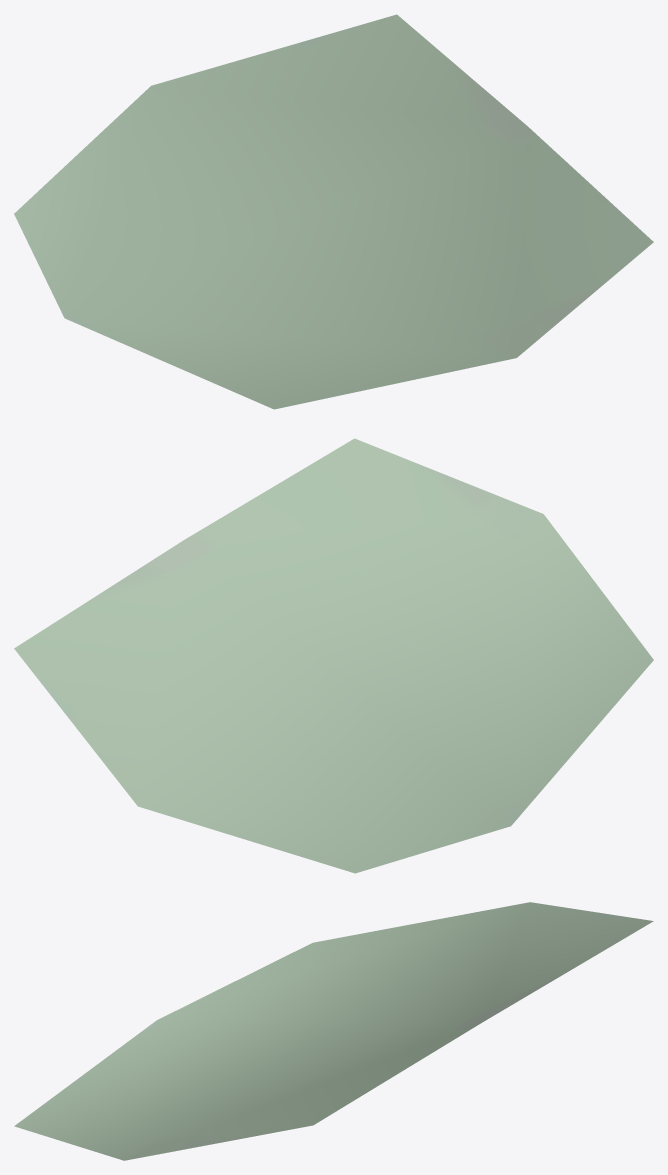
Rendered from TROLLHOLE02_HOLECAP87.fbx.
3 views of the same model, one above another, from view 1: azimuth 30°, elevation 25°; view 2: azimuth 150°, elevation 25°; view 3: azimuth 330°, elevation 25° (orthographic).
Parts seen in each view (by area): view 1: TROLLHOLE02_HOLECAP87; view 2: TROLLHOLE02_HOLECAP87; view 3: TROLLHOLE02_HOLECAP87.
Boxes of the visible parts, x1=… form: TROLLHOLE02_HOLECAP87: x1=14, y1=14, x2=653, y2=409; TROLLHOLE02_HOLECAP87: x1=14, y1=438, x2=653, y2=873; TROLLHOLE02_HOLECAP87: x1=14, y1=902, x2=653, y2=1160.
Size of the model in its own units: 8385 by 2763 by 13494.
Materials: 1 (1 with a texture image).
